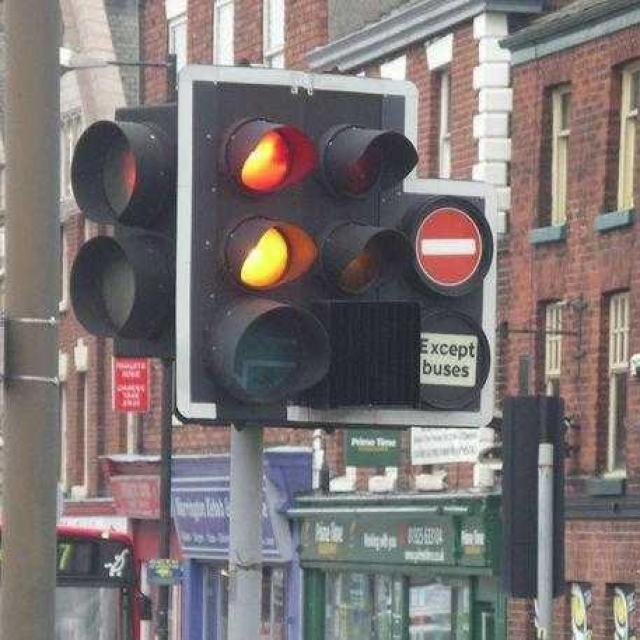Traffic Light -Yellow-: (187, 77, 333, 414), (208, 210, 328, 302)
